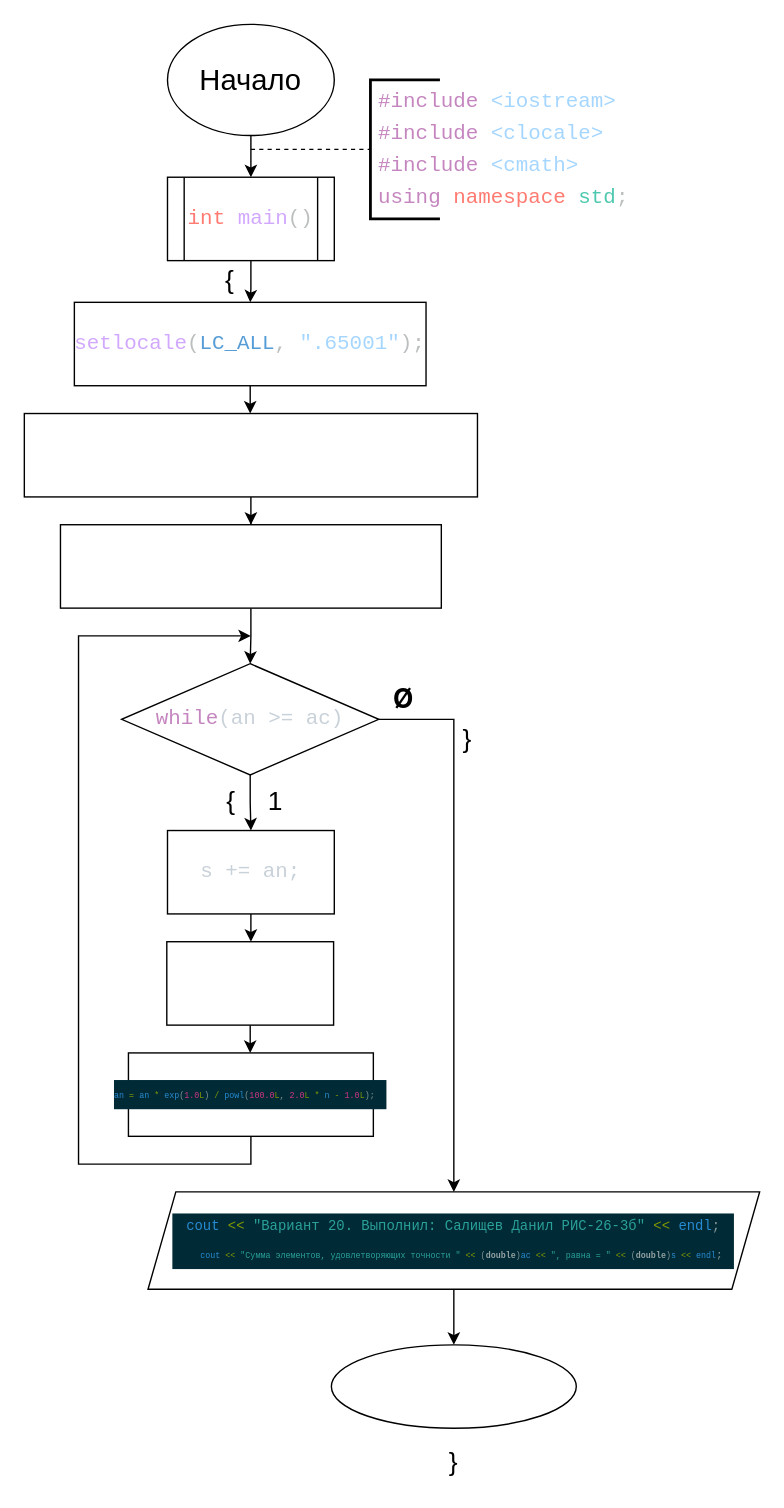
This 784x1508 diagram has some shape labels left out. Here are the shapes that lost their labels. From the top down, the box of each, then its label:
(23, 412, 477, 497): long double s = 0 , n = 1 , an = exp ( 1.0 L ) / 100.0 L ;
(59, 523, 441, 608): const long double ac = 0.0001l ;
(165, 940, 334, 1025): n++;
(330, 1343, 576, 1428): return 0 ;
